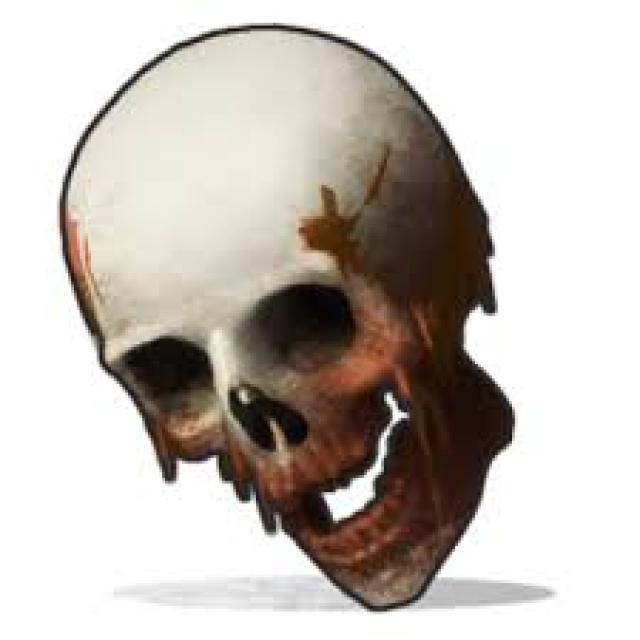skull: (48, 20, 570, 618)
